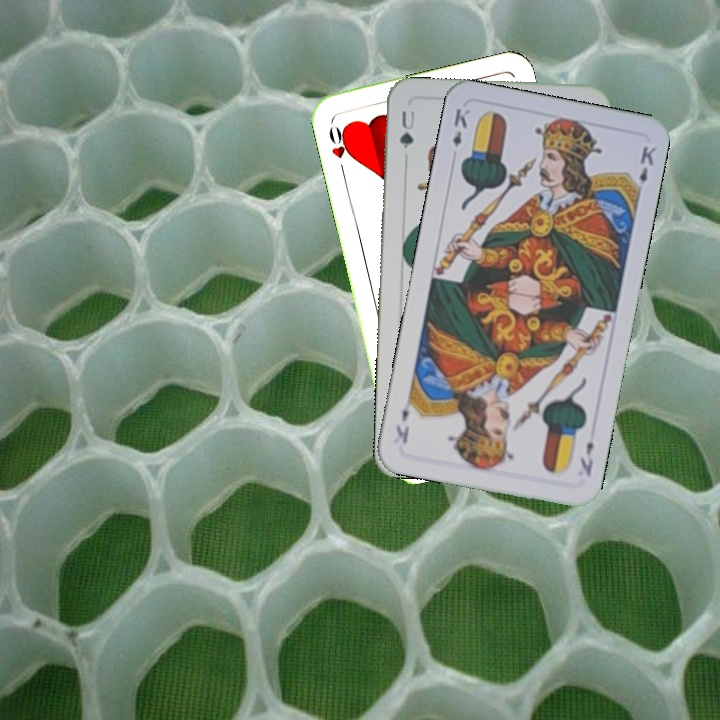EK: (448, 104, 472, 150), (576, 437, 596, 479)
GU: (396, 106, 417, 151)
HO: (325, 122, 355, 177)
